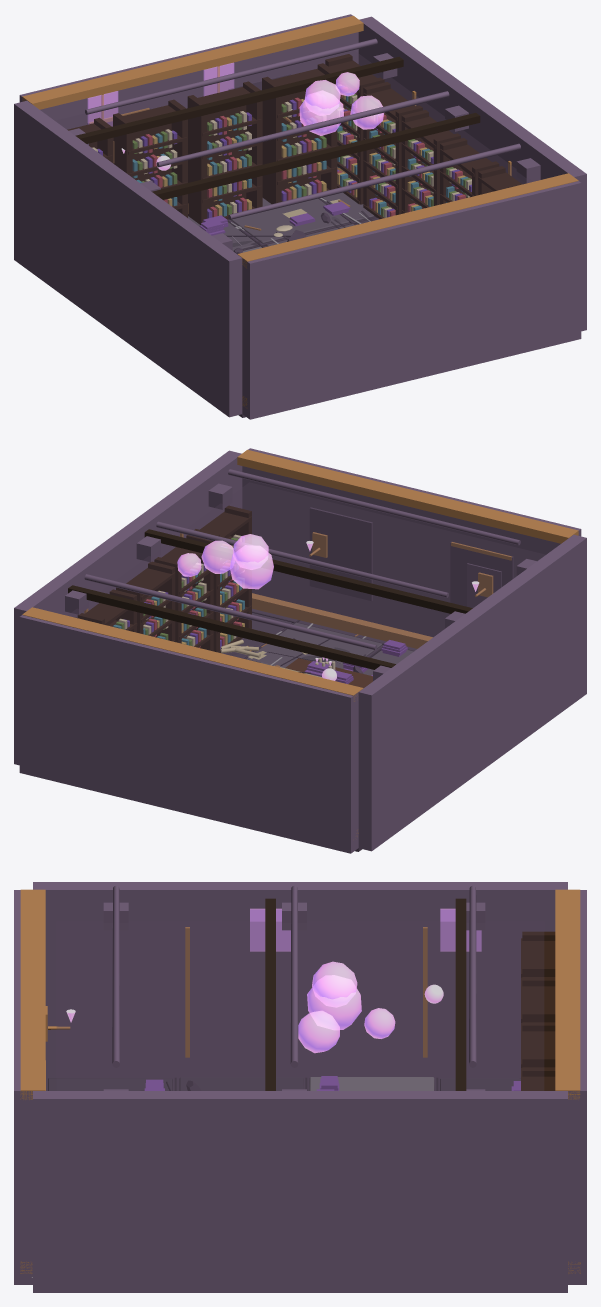
File: arcane-library.high.optimized.glb
The picture shows the model from 3 angles, top to bottom: view 1: azimuth 30°, elevation 25°; view 2: azimuth 150°, elevation 25°; view 3: azimuth 270°, elevation 25°; orthographic projection. The views are drawn at different scales.
Parts seen in each view (by area): view 1: north_authored_wall, ceiling_shadow_occlusion_panel, shelf_back, individual_book_spine (×6), north_base_trim, dark_oak_ceiling_crossbeam, upper_vault_stone_rib_crosswise, individual_settled_beveled_floor_tile, floating_faceted_crystal, north_clerestory_glass_lancet, loose_book_stack; view 2: north_authored_wall, ceiling_shadow_occlusion_panel, north_base_trim, shelf_back, upper_vault_stone_rib_crosswise, dark_oak_ceiling_crossbeam, wall_recess_panel_n, floating_faceted_crystal, individual_settled_beveled_floor_tile (×2), individual_book_spine (×4), loose_book_stack, faded_fabric_wall_hanging_north (+3 smaller); view 3: north_authored_wall, ceiling_shadow_occlusion_panel, north_base_trim, upper_vault_stone_rib_crosswise, shelf_back, individual_settled_beveled_floor_tile (×2), floating_faceted_crystal, dark_oak_ceiling_crossbeam, north_clerestory_glass_lancet, wall_brass_relief_plaque_north, loose_book_stack.
Boxes of the visible parts, <box> form: north_authored_wall: <box>14,14,586,419</box>; ceiling_shadow_occlusion_panel: <box>56,50,532,253</box>; shelf_back: <box>67,54,522,224</box>; individual_book_spine (×6): <box>92,85,471,218</box>; north_base_trim: <box>22,15,578,408</box>; dark_oak_ceiling_crossbeam: <box>75,56,480,199</box>; upper_vault_stone_rib_crosswise: <box>68,38,540,250</box>; individual_settled_beveled_floor_tile: <box>188,192,375,251</box>; floating_faceted_crystal: <box>299,72,383,135</box>; north_clerestory_glass_lancet: <box>87,62,234,126</box>; loose_book_stack: <box>199,201,350,235</box>; north_authored_wall: <box>14,448,586,853</box>; ceiling_shadow_occlusion_panel: <box>68,482,544,687</box>; north_base_trim: <box>22,449,578,836</box>; shelf_back: <box>75,505,251,652</box>; upper_vault_stone_rib_crosswise: <box>65,469,536,681</box>; dark_oak_ceiling_crossbeam: <box>68,529,472,669</box>; wall_recess_panel_n: <box>309,507,513,614</box>; floating_faceted_crystal: <box>177,534,273,589</box>; individual_settled_beveled_floor_tile (×2): <box>222,613,413,675</box>; individual_book_spine (×4): <box>113,534,244,647</box>; loose_book_stack: <box>304,640,407,683</box>; faded_fabric_wall_hanging_north: <box>467,563,501,607</box>; north_authored_wall: <box>14,882,586,1292</box>; ceiling_shadow_occlusion_panel: <box>57,922,543,1090</box>; north_base_trim: <box>20,889,580,1273</box>; upper_vault_stone_rib_crosswise: <box>103,885,485,1090</box>; shelf_back: <box>521,931,555,1090</box>; individual_settled_beveled_floor_tile (×2): <box>48,1077,520,1090</box>; floating_faceted_crystal: <box>298,961,395,1053</box>; dark_oak_ceiling_crossbeam: <box>265,898,466,1090</box>; north_clerestory_glass_lancet: <box>250,908,481,951</box>; wall_brass_relief_plaque_north: <box>185,927,427,1057</box>; loose_book_stack: <box>144,1076,520,1090</box>.
Size of what is drawn, in the model's own units: 8.64 by 4.59 by 9.64.
